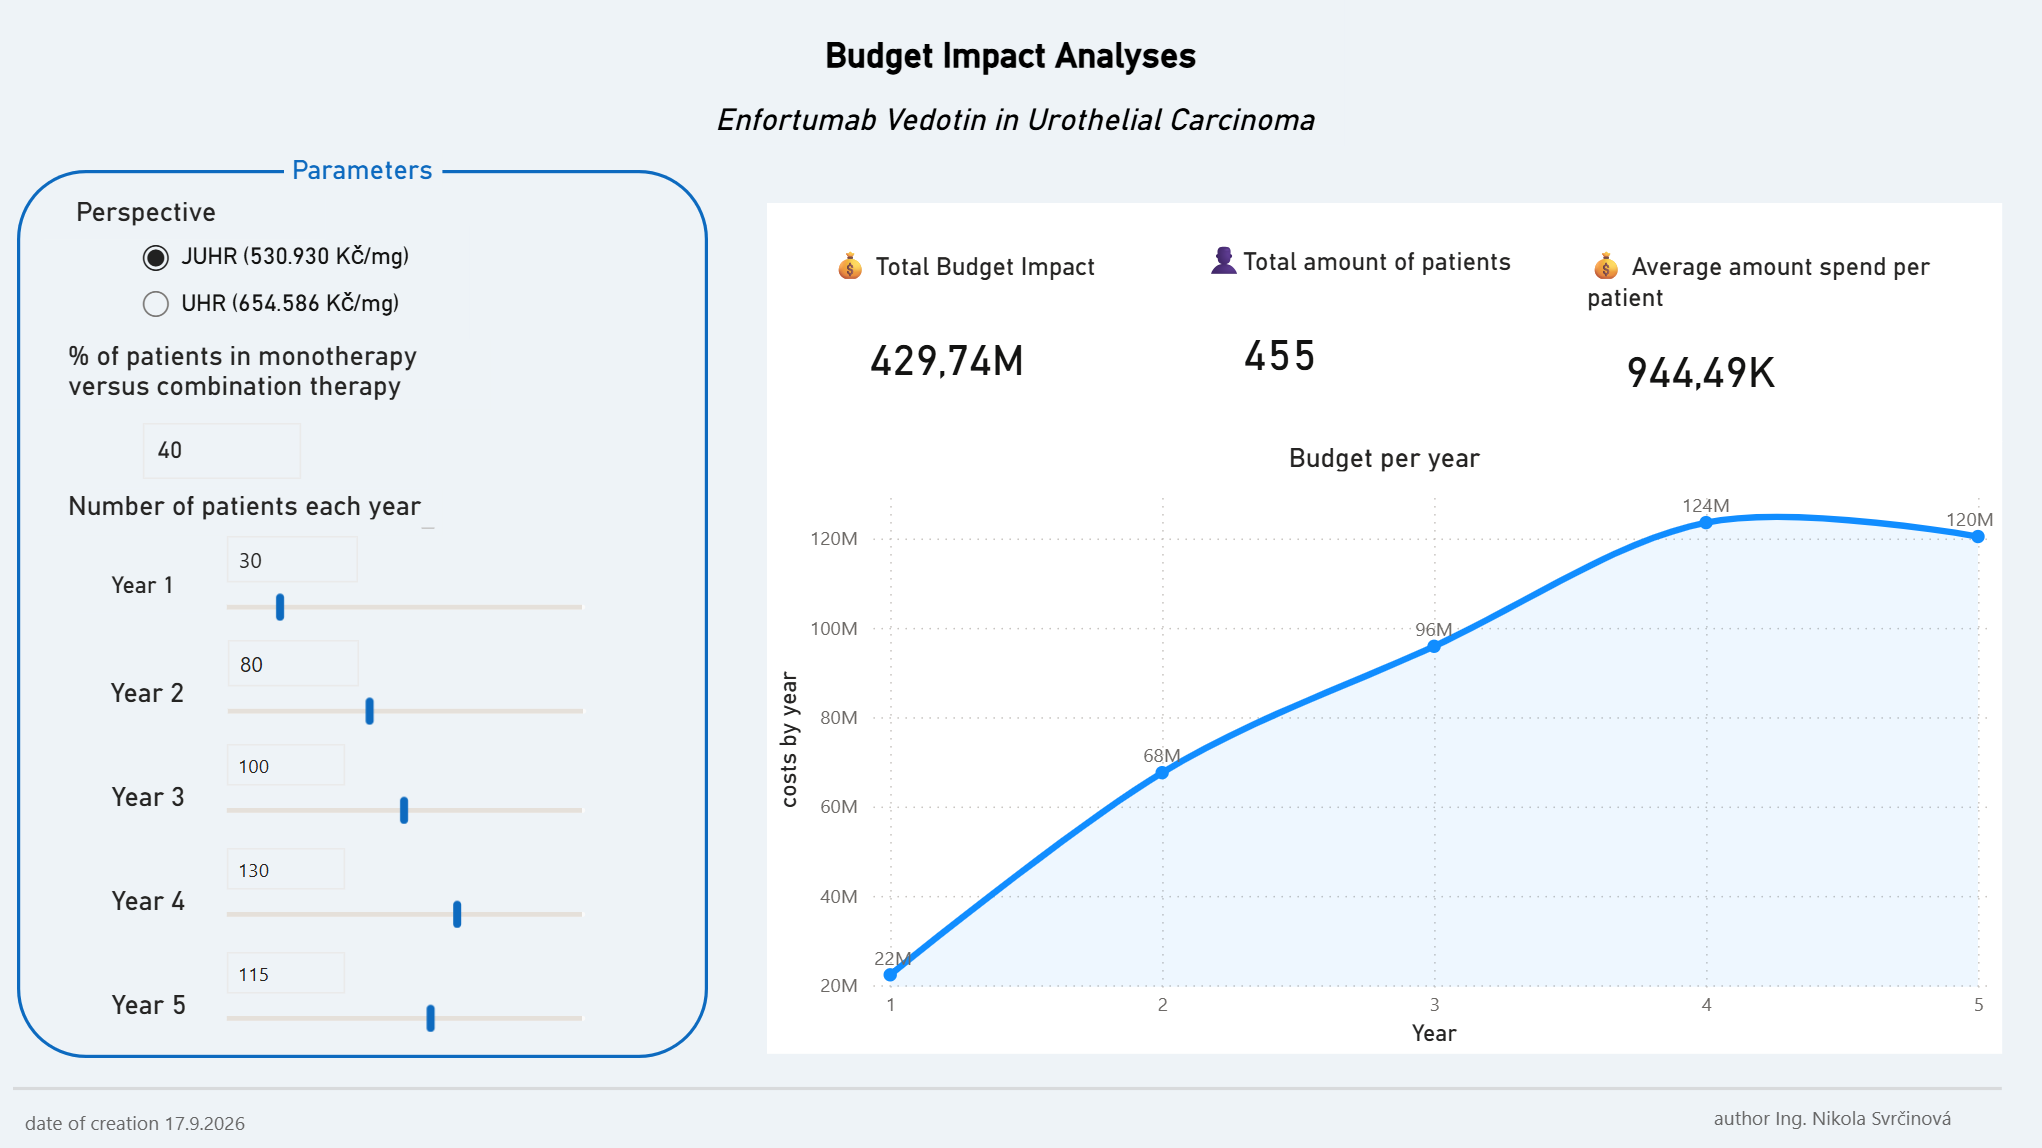

The dashboard page shown, as its layout file describes it:
{"tool":"powerbi","page":{"name":"BIM main","canvas":[1280,720],"ordinal":0},"visuals":[{"type":"shape","box":[11.9,106.2,431.9,555],"z":0},{"type":"textbox","box":[429.4,0,412.2,90.9],"z":1000},{"type":"slicer","fields":{"Values":["Monotherapy.Monotherapy"]},"box":[62.5,254.4,206.2,51.2],"z":2000},{"type":"slicer","fields":{"Values":["Year 1 .Year 1 "]},"box":[130,325,250,65],"z":3000},{"type":"slicer","fields":{"Values":["Year 2.Year 2"]},"box":[130.6,390,250,65],"z":4000},{"type":"slicer","fields":{"Values":["Year 3.Year 3"]},"box":[130,455,250,65],"z":5000},{"type":"slicer","fields":{"Values":["Year 4.Year 4"]},"box":[130,520,250,65],"z":6000},{"type":"slicer","fields":{"Values":["Year 5.Year 5"]},"box":[130,585,250,65],"z":7000},{"type":"lineChart","title":"Budget per year","fields":{"Category":["Year.Rok"],"Y":["Year.costs by year"]},"box":[480.6,275.6,771.9,383.1],"z":8000},{"type":"slicer","fields":{"Values":["Price 1 mg.Perspective"]},"box":[62.5,141.2,231.9,70.6],"z":9000},{"type":"textbox","title":"Perspective","box":[28.8,121.9,176.2,28.1],"z":10000},{"type":"textbox","title":"% of patients in monotherapy versus combination therapy","box":[23.8,211.9,283.8,43.8],"z":11000},{"type":"textbox","title":"Number of patients each year","box":[23.8,305.6,253.8,29.4],"z":12000},{"type":"textbox","title":"Year 1","box":[50.6,357.5,80,25.6],"z":13000},{"type":"textbox","title":"Year 2","box":[50,422.5,80,25],"z":14000},{"type":"textbox","title":"Year 3","box":[50.6,487.5,80,25],"z":15000},{"type":"textbox","title":"Year 4","box":[50.6,552.5,80,25],"z":16000},{"type":"textbox","title":"Parameters","box":[178.8,95.6,98.8,21.2],"z":17000},{"type":"textbox","box":[480.6,126.9,771.9,148.8],"z":18000},{"type":"cardVisual","title":"👤Total amount of patients","fields":{"Data":["Monotherapy.Total amount of patients"]},"box":[749.4,150,208.8,121.2],"z":19000},{"type":"cardVisual","title":"💰 Total Budget Impact","fields":{"Data":["Monotherapy.Total costs"]},"box":[515.6,153.1,210,122.5],"z":20000},{"type":"cardVisual","title":"💰 Average amount spend per patient","fields":{"Data":["Monotherapy.cost per patients"]},"box":[988.1,153.1,244.4,119.4],"z":21000},{"type":"shape","box":[9.4,661.2,1243.1,38.1],"z":22000},{"type":"textbox","box":[11.9,687.5,212.5,29.4],"z":23000},{"type":"textbox","box":[1067.5,684.4,212.5,32.5],"z":24000},{"type":"textbox","title":"Year 5","box":[50.6,617.5,80,25],"z":25000}]}

Visuals, with their boxes in screenshot pixels (x1, y1, x2, y2), scaled from the page's 1280x720 canvas onto the 2042x1148 screenshot:
shape: Rect(19, 169, 708, 1054)
textbox: Rect(685, 0, 1343, 145)
slicer - Monotherapy.Monotherapy: Rect(100, 406, 429, 487)
slicer - Year 1 .Year 1 : Rect(207, 518, 606, 622)
slicer - Year 2.Year 2: Rect(208, 622, 607, 725)
slicer - Year 3.Year 3: Rect(207, 725, 606, 829)
slicer - Year 4.Year 4: Rect(207, 829, 606, 933)
slicer - Year 5.Year 5: Rect(207, 933, 606, 1036)
"Budget per year" lineChart: Rect(767, 439, 1998, 1050)
slicer - Price 1 mg.Perspective: Rect(100, 225, 470, 338)
"Perspective" textbox: Rect(46, 194, 327, 239)
"% of patients in monotherapy versus combination therapy" textbox: Rect(38, 338, 491, 408)
"Number of patients each year" textbox: Rect(38, 487, 443, 534)
"Year 1" textbox: Rect(81, 570, 208, 611)
"Year 2" textbox: Rect(80, 674, 207, 714)
"Year 3" textbox: Rect(81, 777, 208, 817)
"Year 4" textbox: Rect(81, 881, 208, 921)
"Parameters" textbox: Rect(285, 152, 443, 186)
textbox: Rect(767, 202, 1998, 440)
"👤Total amount of patients" cardVisual: Rect(1196, 239, 1529, 432)
"💰 Total Budget Impact" cardVisual: Rect(823, 244, 1158, 439)
"💰 Average amount spend per patient" cardVisual: Rect(1576, 244, 1966, 434)
shape: Rect(15, 1054, 1998, 1115)
textbox: Rect(19, 1096, 358, 1143)
textbox: Rect(1703, 1091, 2041, 1143)
"Year 5" textbox: Rect(81, 985, 208, 1024)
